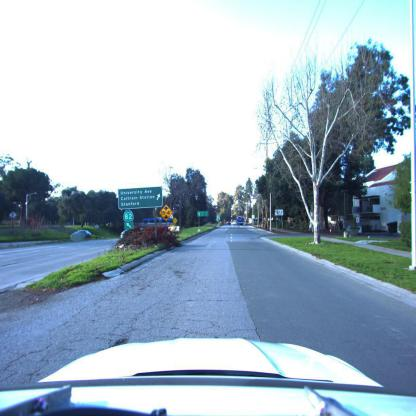car: (0, 336, 416, 416), (70, 228, 94, 241)
truck: (236, 215, 246, 227)
